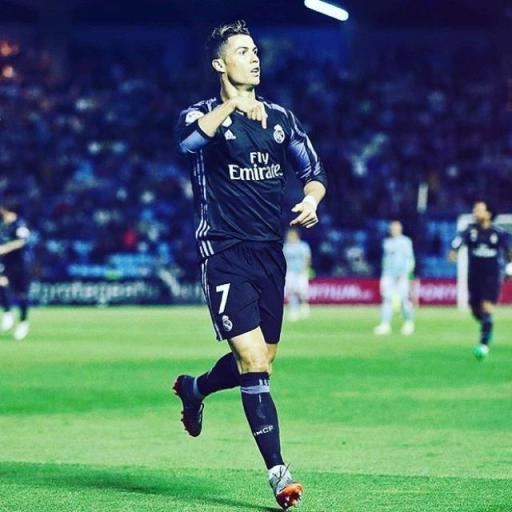Adidas: (221, 127, 240, 140)
Emirates: (226, 148, 284, 182)
